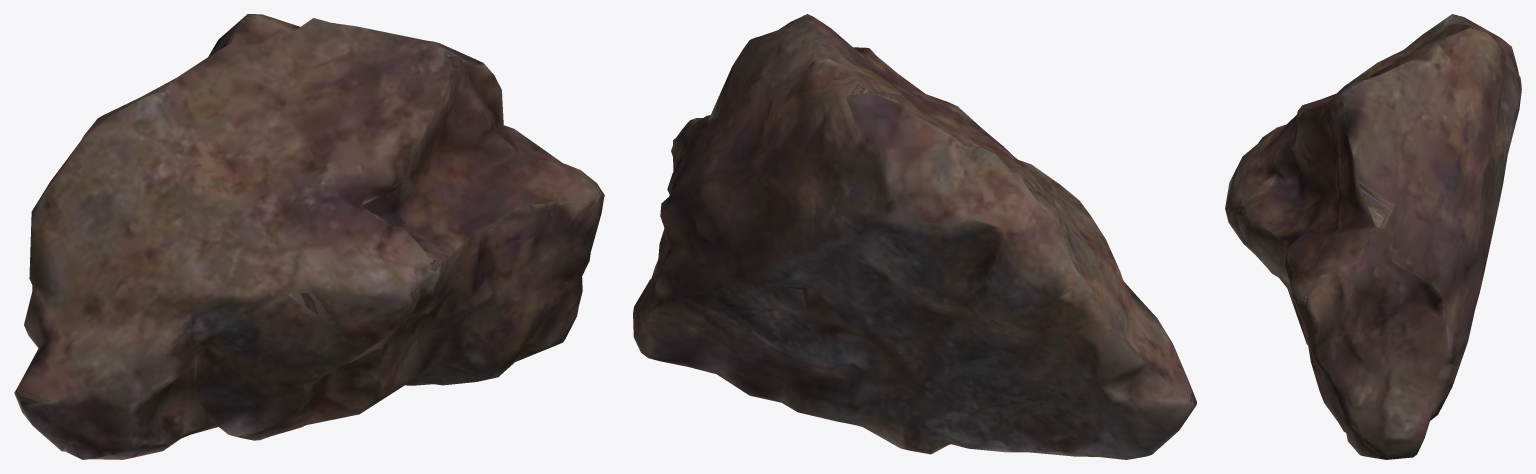
The model's file is bw-cliff-23.lod0.glb.
3 views of the same model, side by side, from view 1: azimuth 30°, elevation 25°; view 2: azimuth 150°, elevation 25°; view 3: azimuth 270°, elevation 25° (orthographic). The views are drawn at different scales.
Visible parts, largest first — view 1: Object_2; view 2: Object_2; view 3: Object_2.
Part boxes in pixels (box(x1,y1,x2,y2)): Object_2: box(14, 14, 604, 459); Object_2: box(633, 14, 1196, 459); Object_2: box(1225, 14, 1521, 459).
Bounding box in the file's own units: 9.97 × 6.61 × 5.07.
1 material, 1 textured.
